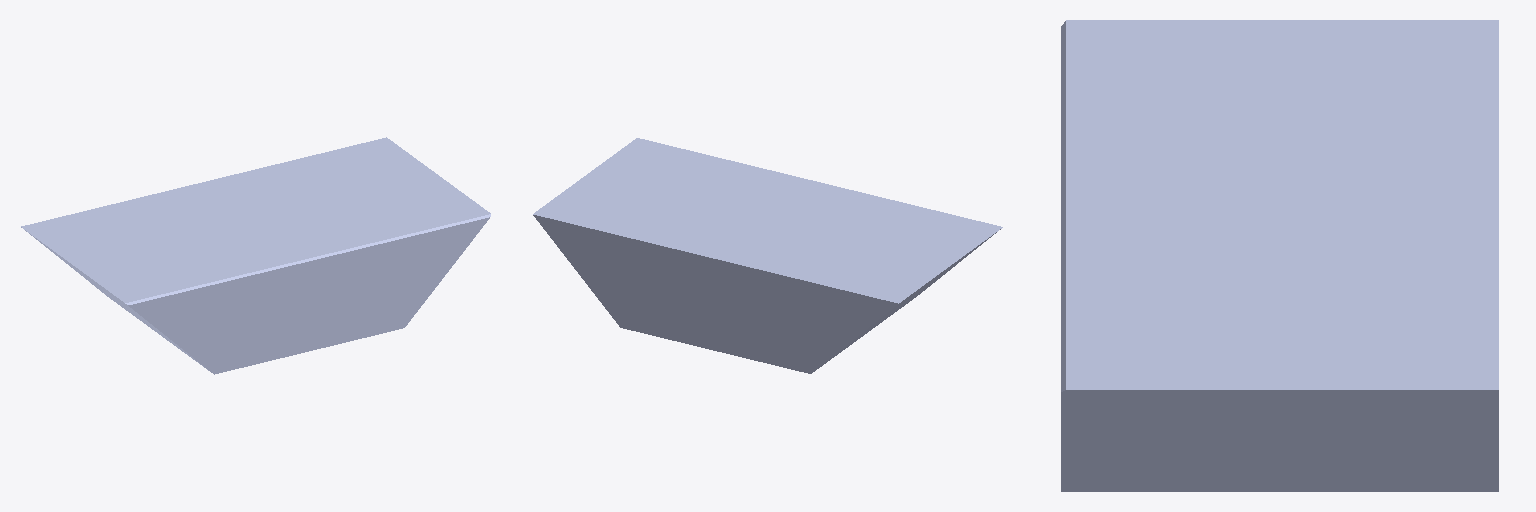
The robot description file, URDF, robot "hole.SLDPRT":
<?xml version="1.0" encoding="utf-8"?>
<!-- This URDF was automatically created by SolidWorks to URDF Exporter! Originally created by [author] ([email redacted]) 
     Commit Version: 1.5.1-0-g916b5db  Build Version: 1.5.7152.31018
     For more information, please see http://wiki.ros.org/sw_urdf_exporter -->
<robot
  name="hole.SLDPRT">
  <link
    name="hole">
    <inertial>
      <origin
        xyz="0.0 -0.025 0.0"
        rpy="0 0 0" />
      <mass
        value="5.0" />
      <inertia
        ixx="0.003"
        ixy="0.0"
        ixz="0.0"
        iyy="0.003"
        iyz="0.0"
        izz="0.003" />
    </inertial>
    <visual>
      <origin
        xyz="0 0 0"
        rpy="1.5707963267949 0 0" />
      <geometry>
        <mesh
          filename="../hole_stl/Hole_22.STL" />
      </geometry>
      <material
        name="stainless">
        <color
          rgba="0.79216 0.81961 0.93333 1" />
      </material>
    </visual>
    <collision>
      <origin
        xyz="0 0 0"
        rpy="1.5707963267949 0 0" />
      <geometry>
        <mesh
          filename="../hole_stl/Hole_22.STL" />
      </geometry>
    </collision>
  <gazebo>
    <static>true</static>
  </gazebo>

  </link>
</robot>

--- Render facts (derived) ---
3 views of the same robot in one strip: view 1: azimuth 30°, elevation 25°; view 2: azimuth 150°, elevation 25°; view 3: azimuth 270°, elevation 25° (orthographic).
Model hole.SLDPRT with 1 links and 0 joints (none), rooted at hole, posed all joints at 0.
Visible links, largest first — view 1: hole; view 2: hole; view 3: hole.
Link boxes in pixels (x1,y1,x2,y2): hole: (21,137,490,374); hole: (533,138,1002,373); hole: (1061,20,1498,491).
Bounding box of the posed robot: 0.1 × 0.05 × 0.024 m (x, y, z).
1 mesh visuals loaded from 1 distinct referenced files (1 binary STL).